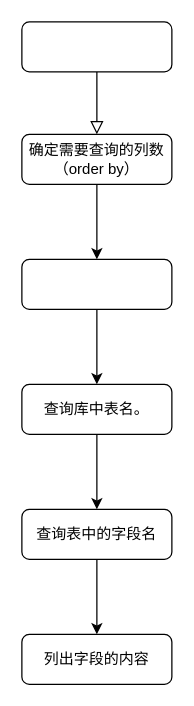
Some shapes in this 194 by 706 pixel diagram are drawn without their labels. Each missing label, with the centre of its shape:
判断注入类型: the point at 96,46
进行数据库名的查询: the point at 96,283
